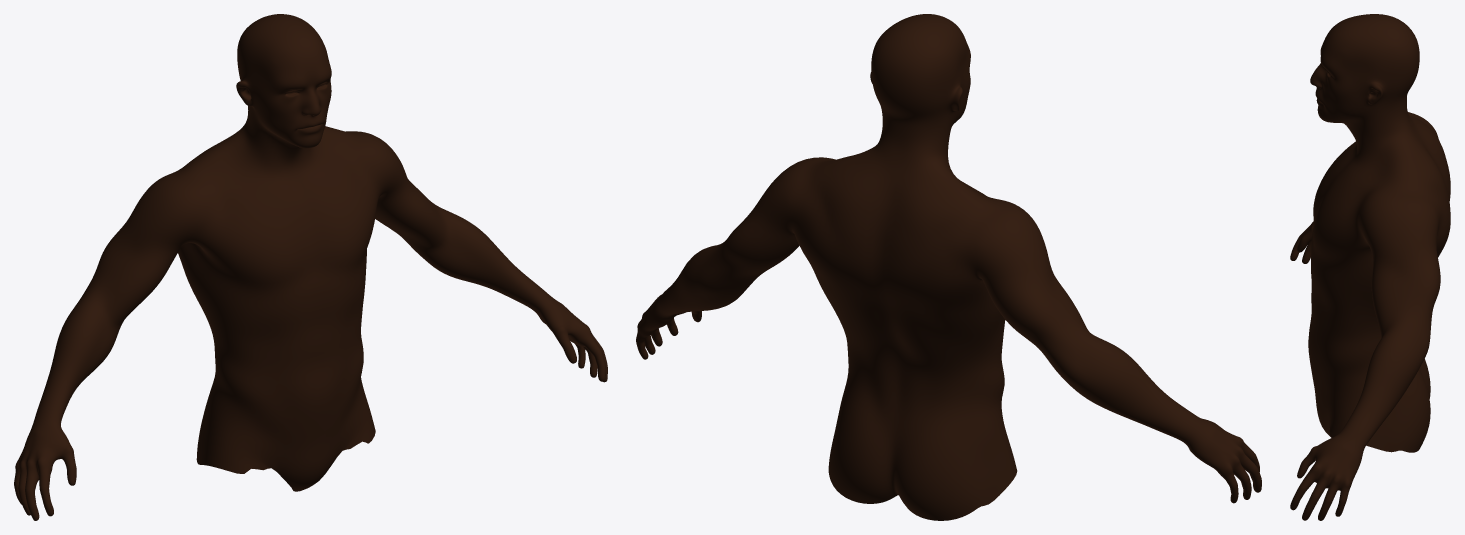
The model's file is soldat.obj.
3 views of the same model, side by side, from view 1: azimuth 30°, elevation 25°; view 2: azimuth 150°, elevation 25°; view 3: azimuth 270°, elevation 25° (orthographic). The views are drawn at different scales.
Parts seen in each view (by area): view 1: MALE.001; view 2: MALE.001; view 3: MALE.001.
Boxes of the visible parts, box(x1,y1,x2,y2) form: MALE.001: box(14, 14, 607, 520); MALE.001: box(636, 14, 1261, 520); MALE.001: box(1290, 14, 1450, 520).
Bounding box in the file's own units: 1.27 × 0.9645 × 0.3305.
